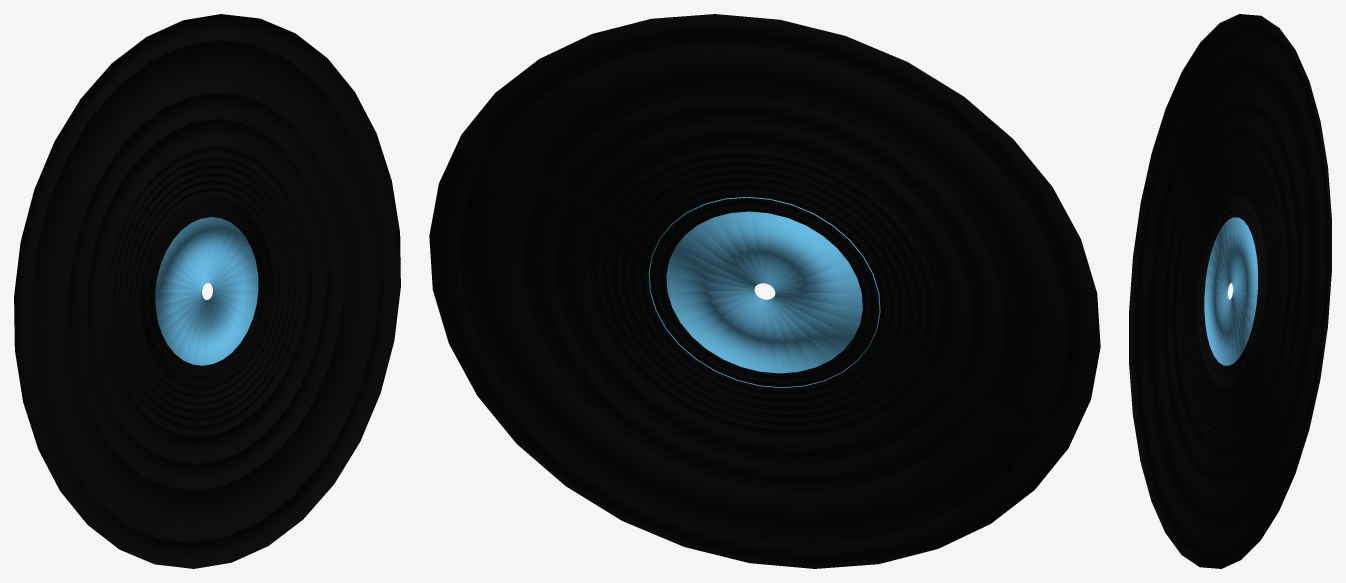
The model's file is vinyl.glb.
3 views of the same model, side by side, from view 1: azimuth 30°, elevation 25°; view 2: azimuth 150°, elevation 25°; view 3: azimuth 270°, elevation 25° (orthographic). The views are drawn at different scales.
Visible parts, largest first — view 1: Circle; view 2: Circle; view 3: Circle.
Boxes of the visible parts, x1,y1,x2,y2 form: Circle: (14,14,400,568); Circle: (429,14,1100,568); Circle: (1129,14,1331,568).
Size of the model in its own units: 2.77 by 2.82 by 1.05.
